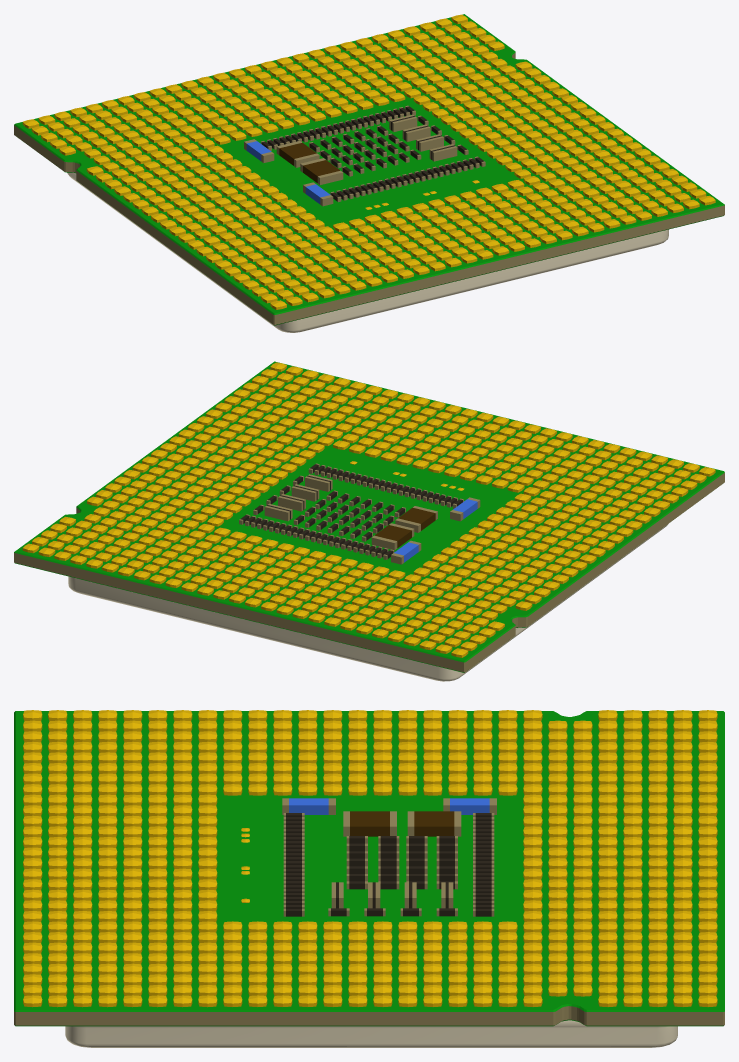
Rendered from Cpu.glb.
3 views of the same model, one above another, from view 1: azimuth 30°, elevation 25°; view 2: azimuth 150°, elevation 25°; view 3: azimuth 270°, elevation 25° (orthographic). The views are drawn at different scales.
Parts seen in each view (by area): view 1: CPU; view 2: CPU; view 3: CPU.
Part boxes in pixels (x1,y1,x2,y2): CPU: (14,14,724,332); CPU: (14,361,724,681); CPU: (14,710,724,1047).
Bounding box in the file's own units: 2 × 0.2255 × 2.
